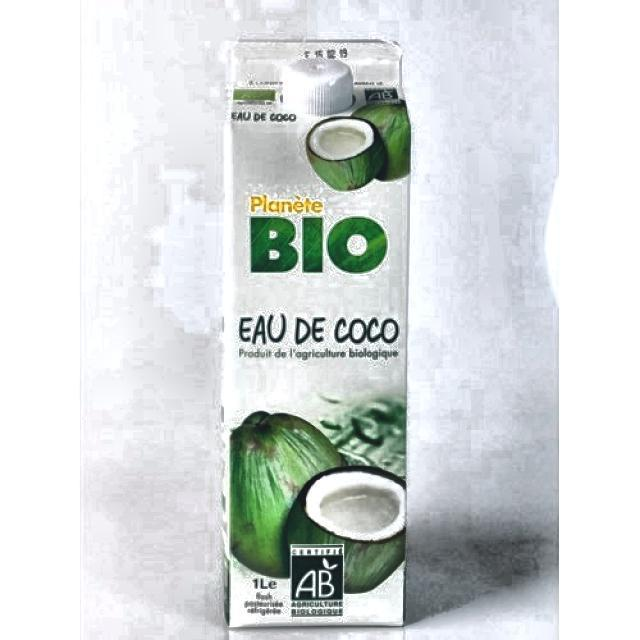cardboard: (220, 37, 411, 629)
